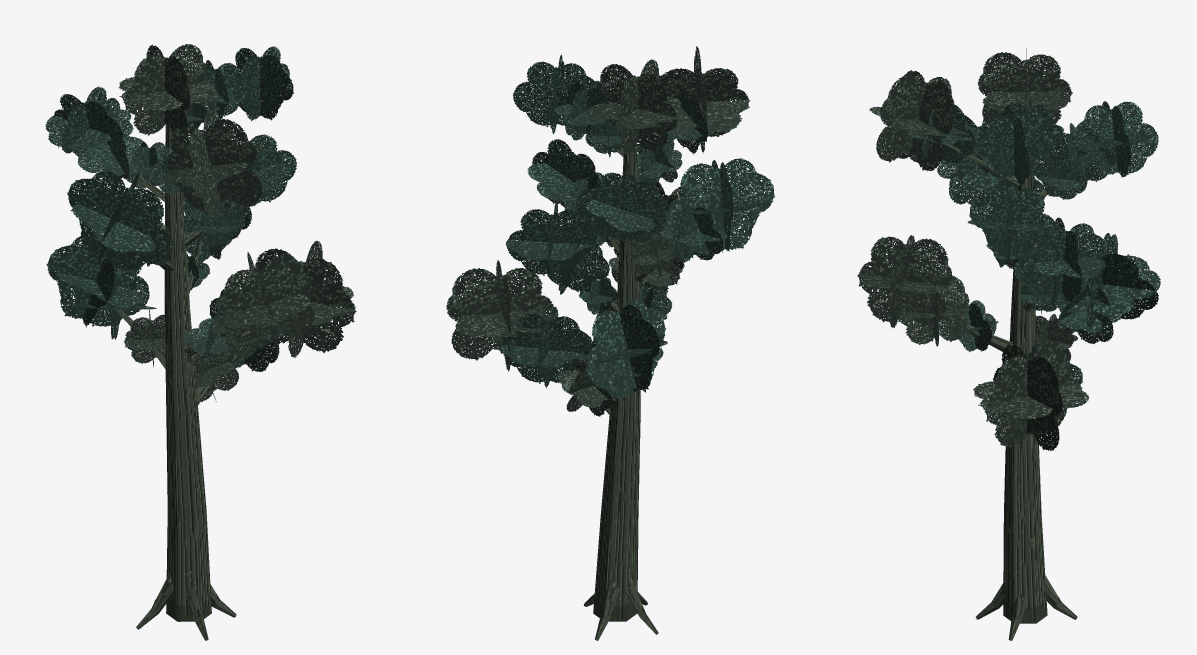
File: SM_Forest_Tree_LeafyA_600x510x900.fbx
The picture shows the model from 3 angles, left to right: view 1: azimuth 30°, elevation 25°; view 2: azimuth 150°, elevation 25°; view 3: azimuth 270°, elevation 25°; orthographic projection. The views are drawn at different scales.
Parts seen in each view (by area): view 1: SM_Forest_Tree_LeafyA_600x510x900.042; view 2: SM_Forest_Tree_LeafyA_600x510x900.042; view 3: SM_Forest_Tree_LeafyA_600x510x900.042.
Boxes of the visible parts, x1,y1,x2,y2 form: SM_Forest_Tree_LeafyA_600x510x900.042: (45,44,356,640); SM_Forest_Tree_LeafyA_600x510x900.042: (446,46,775,640); SM_Forest_Tree_LeafyA_600x510x900.042: (857,48,1160,640).
Bounding box in the file's own units: 6.04 × 9.12 × 5.11.
